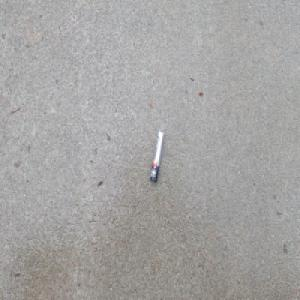Battery: (150, 129, 164, 183)
